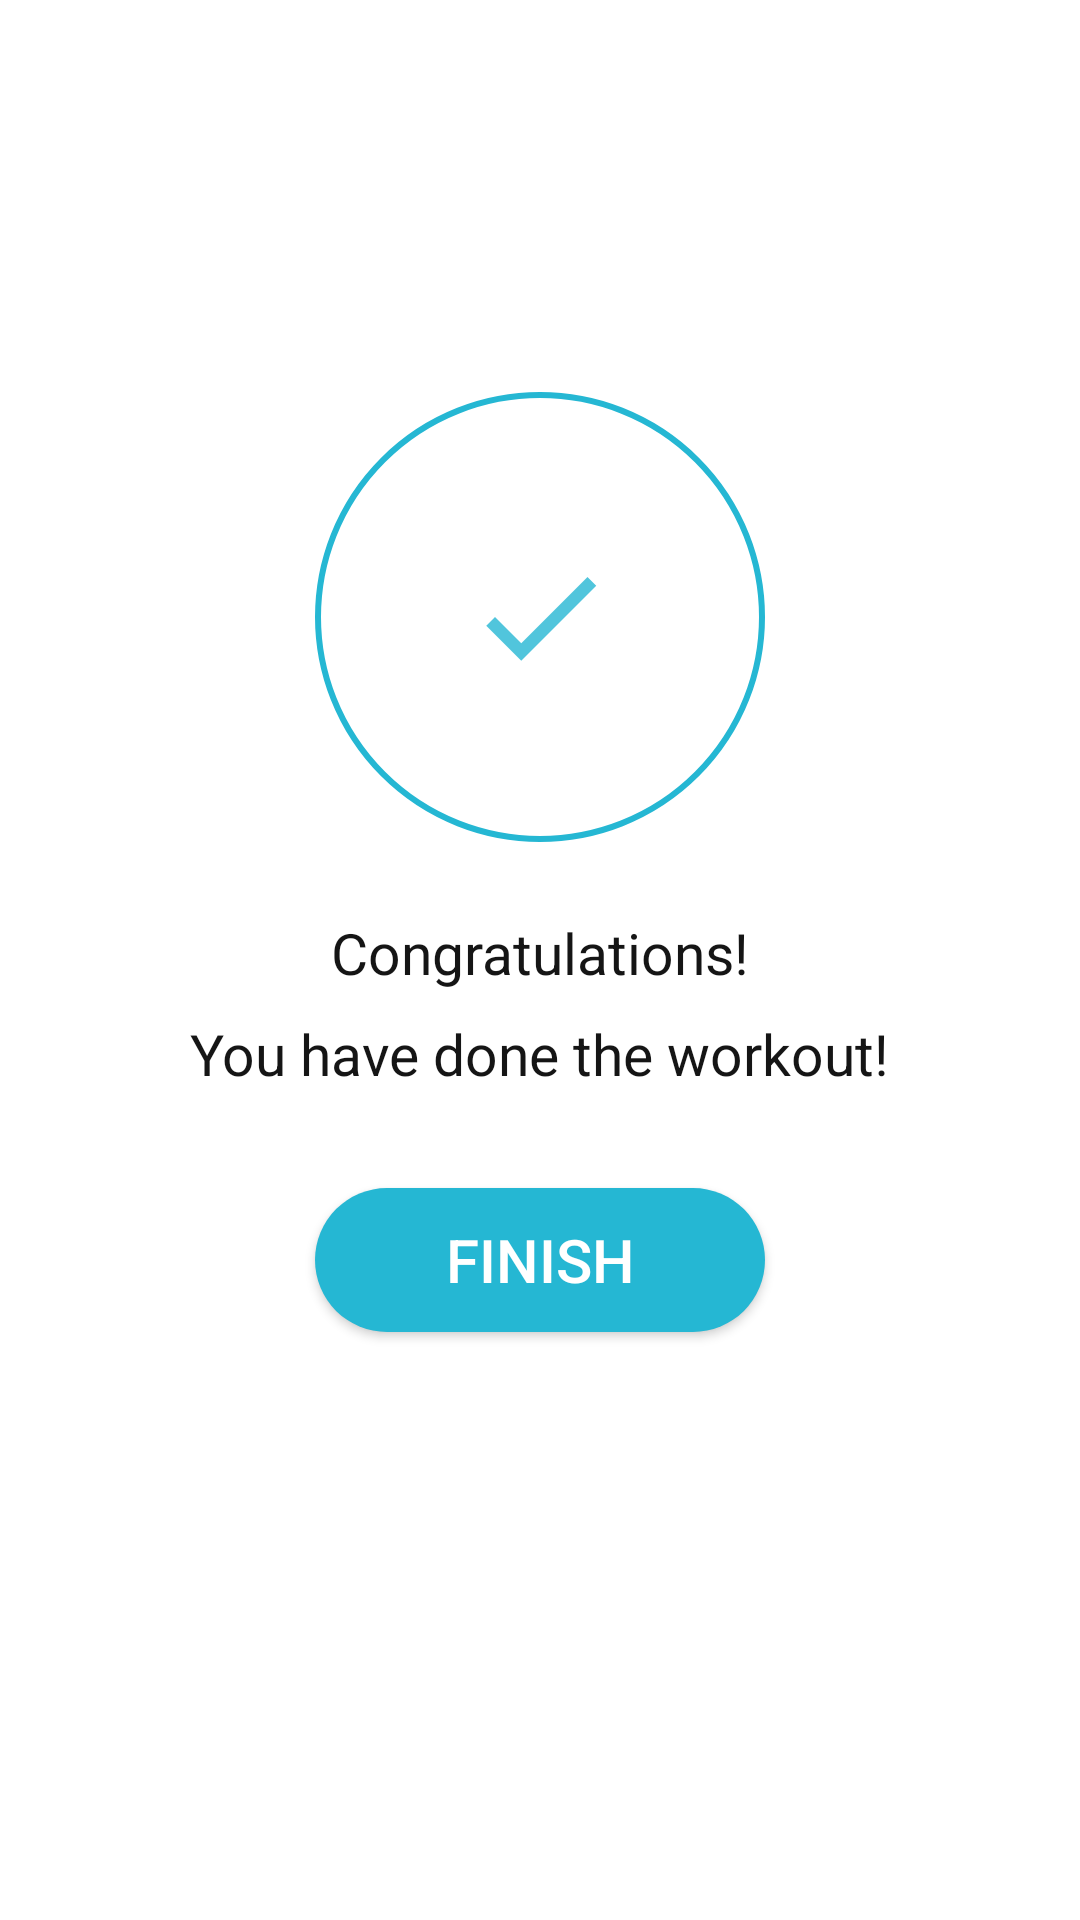

Icon click points for this 1080w x 1920h phone screenshot, format [x,y]:
Done Image: [541,619]
